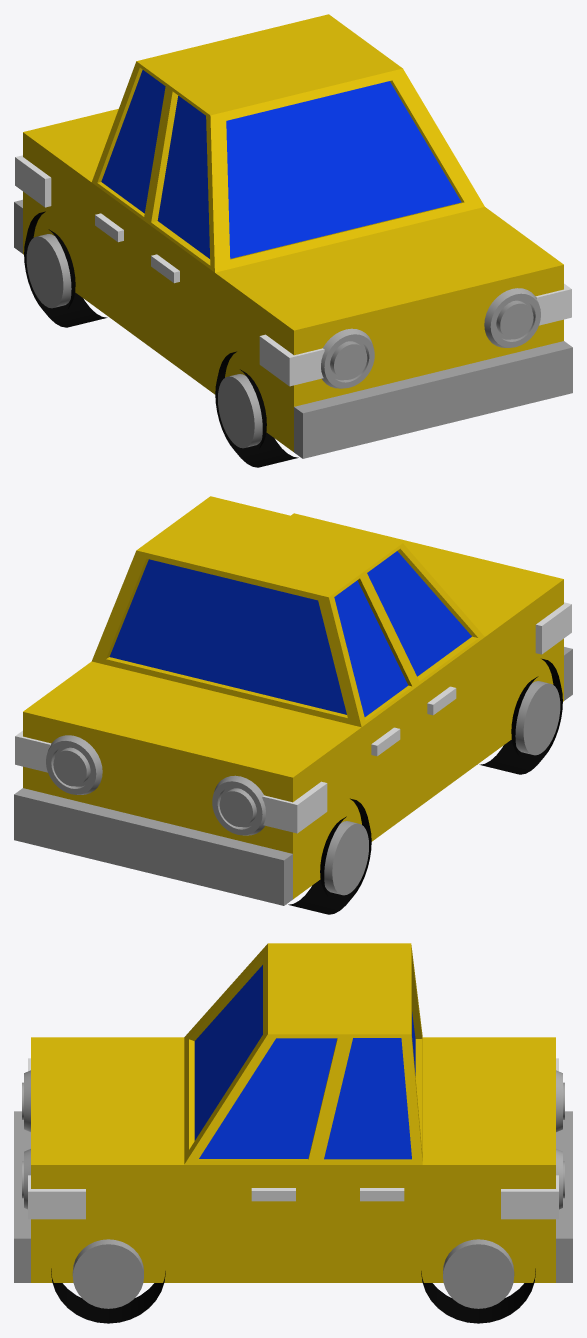
File: car.glb
The picture shows the model from 3 angles, top to bottom: view 1: azimuth 30°, elevation 25°; view 2: azimuth 150°, elevation 25°; view 3: azimuth 270°, elevation 25°; orthographic projection. The views are drawn at different scales.
Parts seen in each view (by area): view 1: Cube, Cube.001, 円.002, 円.001, 立方体, 円; view 2: Cube, Cube.001, 円.002, 円.001, 立方体, 円; view 3: Cube, 円.001, Cube.001, 円, 立方体, 円.002, 立方体.001, 立方体.002.
Part boxes in pixels (x1,y1,x2,y2): Cube: [23, 14, 563, 451]; Cube.001: [14, 199, 572, 458]; 円.002: [321, 288, 540, 388]; 円.001: [26, 234, 262, 448]; 立方体: [15, 155, 571, 386]; 円: [24, 211, 298, 467]; Cube: [23, 496, 563, 899]; Cube.001: [14, 647, 572, 905]; 円.002: [46, 735, 265, 835]; 円.001: [324, 681, 560, 895]; 立方体: [15, 602, 571, 833]; 円: [288, 658, 562, 914]; Cube: [31, 943, 555, 1282]; 円.001: [72, 1239, 514, 1308]; Cube.001: [14, 1111, 572, 1282]; 円: [51, 1268, 535, 1323]; 立方体: [28, 1058, 558, 1219]; 円.002: [22, 1070, 564, 1209]; 立方体.001: [251, 1188, 295, 1201]; 立方体.002: [360, 1188, 404, 1201].
Size of the model in its own units: 2.87 by 2.48 by 4.7.
